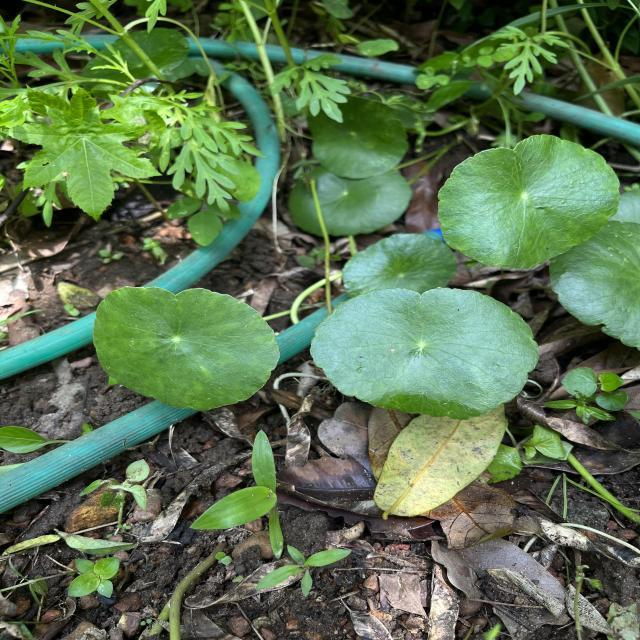Bacopa monnieri: (306, 286, 542, 420), (434, 130, 622, 272), (90, 284, 282, 413), (546, 217, 640, 354), (286, 160, 414, 237), (340, 230, 460, 300)
